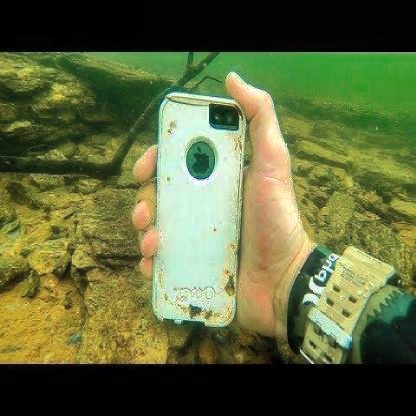cellphone: (154, 91, 247, 327)
